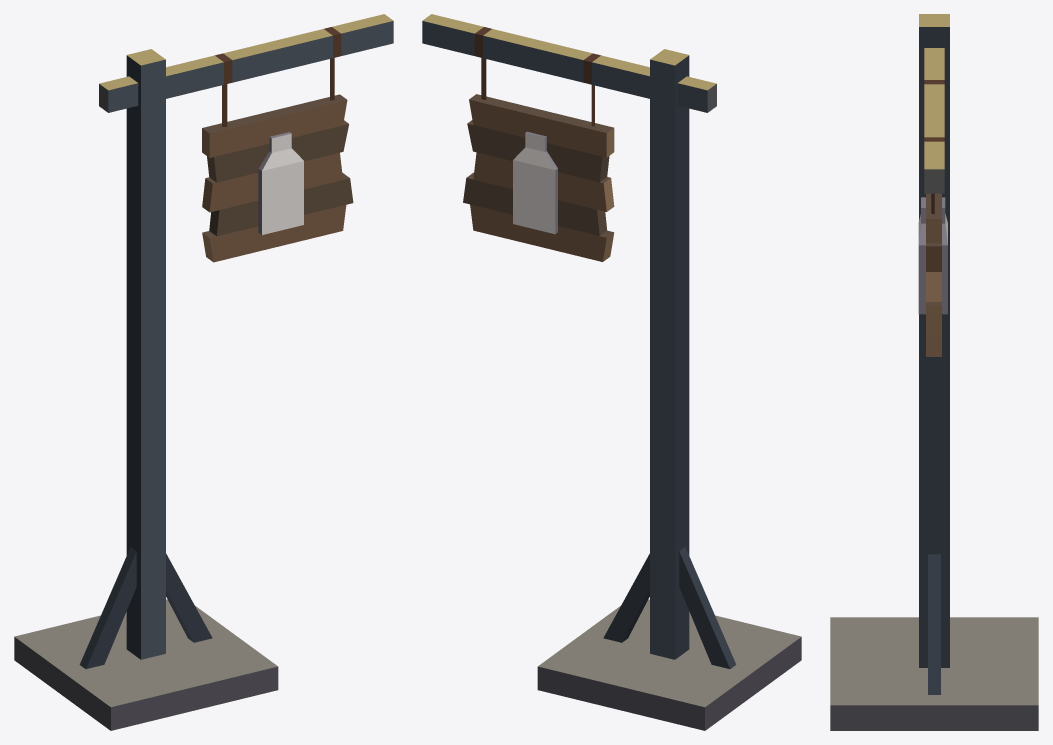
File: TB_D_Prop_Sign_Store_Tool_A.FBX
3 renders of one model, left to right at view 1: azimuth 30°, elevation 25°; view 2: azimuth 150°, elevation 25°; view 3: azimuth 270°, elevation 25°, orthographic. The views are drawn at different scales.
Visible parts, largest first — view 1: TB_D_Prop_Sign_Store_Tool_A; view 2: TB_D_Prop_Sign_Store_Tool_A; view 3: TB_D_Prop_Sign_Store_Tool_A.
Boxes of the visible parts, x1,y1,x2,y2 form: TB_D_Prop_Sign_Store_Tool_A: [14, 14, 393, 730]; TB_D_Prop_Sign_Store_Tool_A: [422, 14, 801, 730]; TB_D_Prop_Sign_Store_Tool_A: [830, 14, 1038, 730].
Size of the model in its own units: 1.57 by 2.84 by 0.8046.
